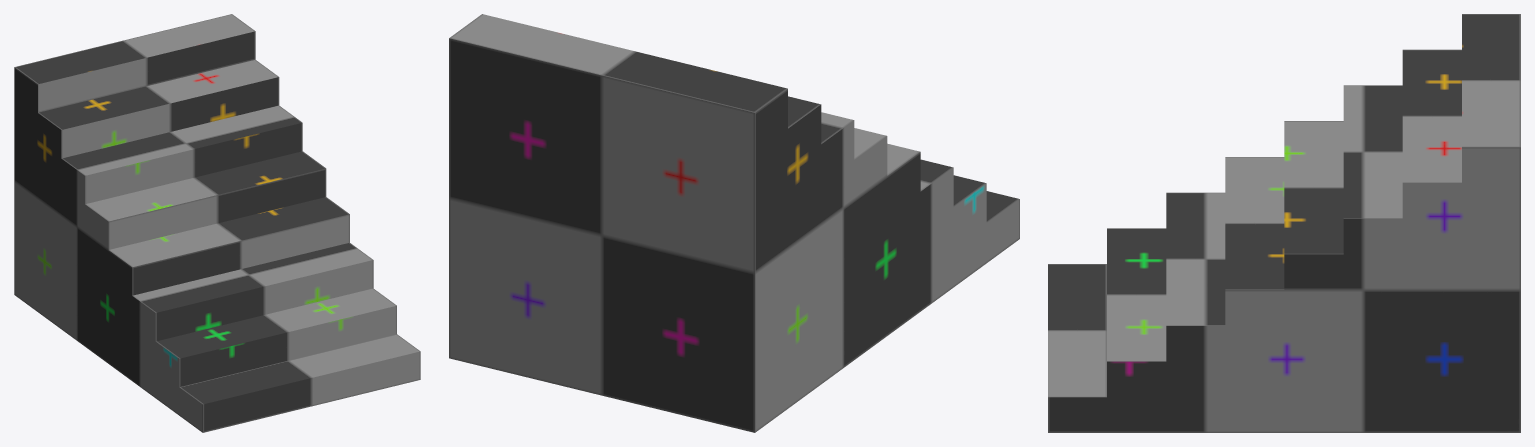
Rendered from Modular Stairs Medium.glb.
The picture shows the model from 3 angles, left to right: view 1: azimuth 30°, elevation 25°; view 2: azimuth 150°, elevation 25°; view 3: azimuth 270°, elevation 25°; orthographic projection. The views are drawn at different scales.
Parts seen in each view (by area): view 1: Modular Stairs 2x3x2; view 2: Modular Stairs 2x3x2; view 3: Modular Stairs 2x3x2.
Part boxes in pixels (bbox=[...]): Modular Stairs 2x3x2: bbox=[14, 14, 420, 432]; Modular Stairs 2x3x2: bbox=[449, 14, 1019, 432]; Modular Stairs 2x3x2: bbox=[1048, 14, 1520, 432].
Size of the model in its own units: 2 by 2 by 3.
1 material, 1 textured.
